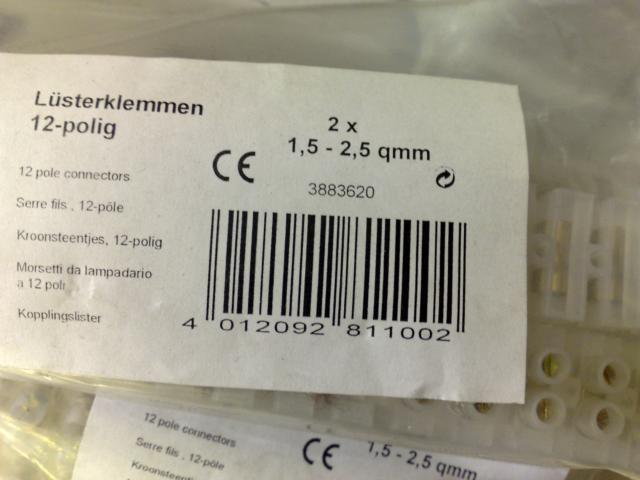Barcode: (170, 200, 493, 346)
